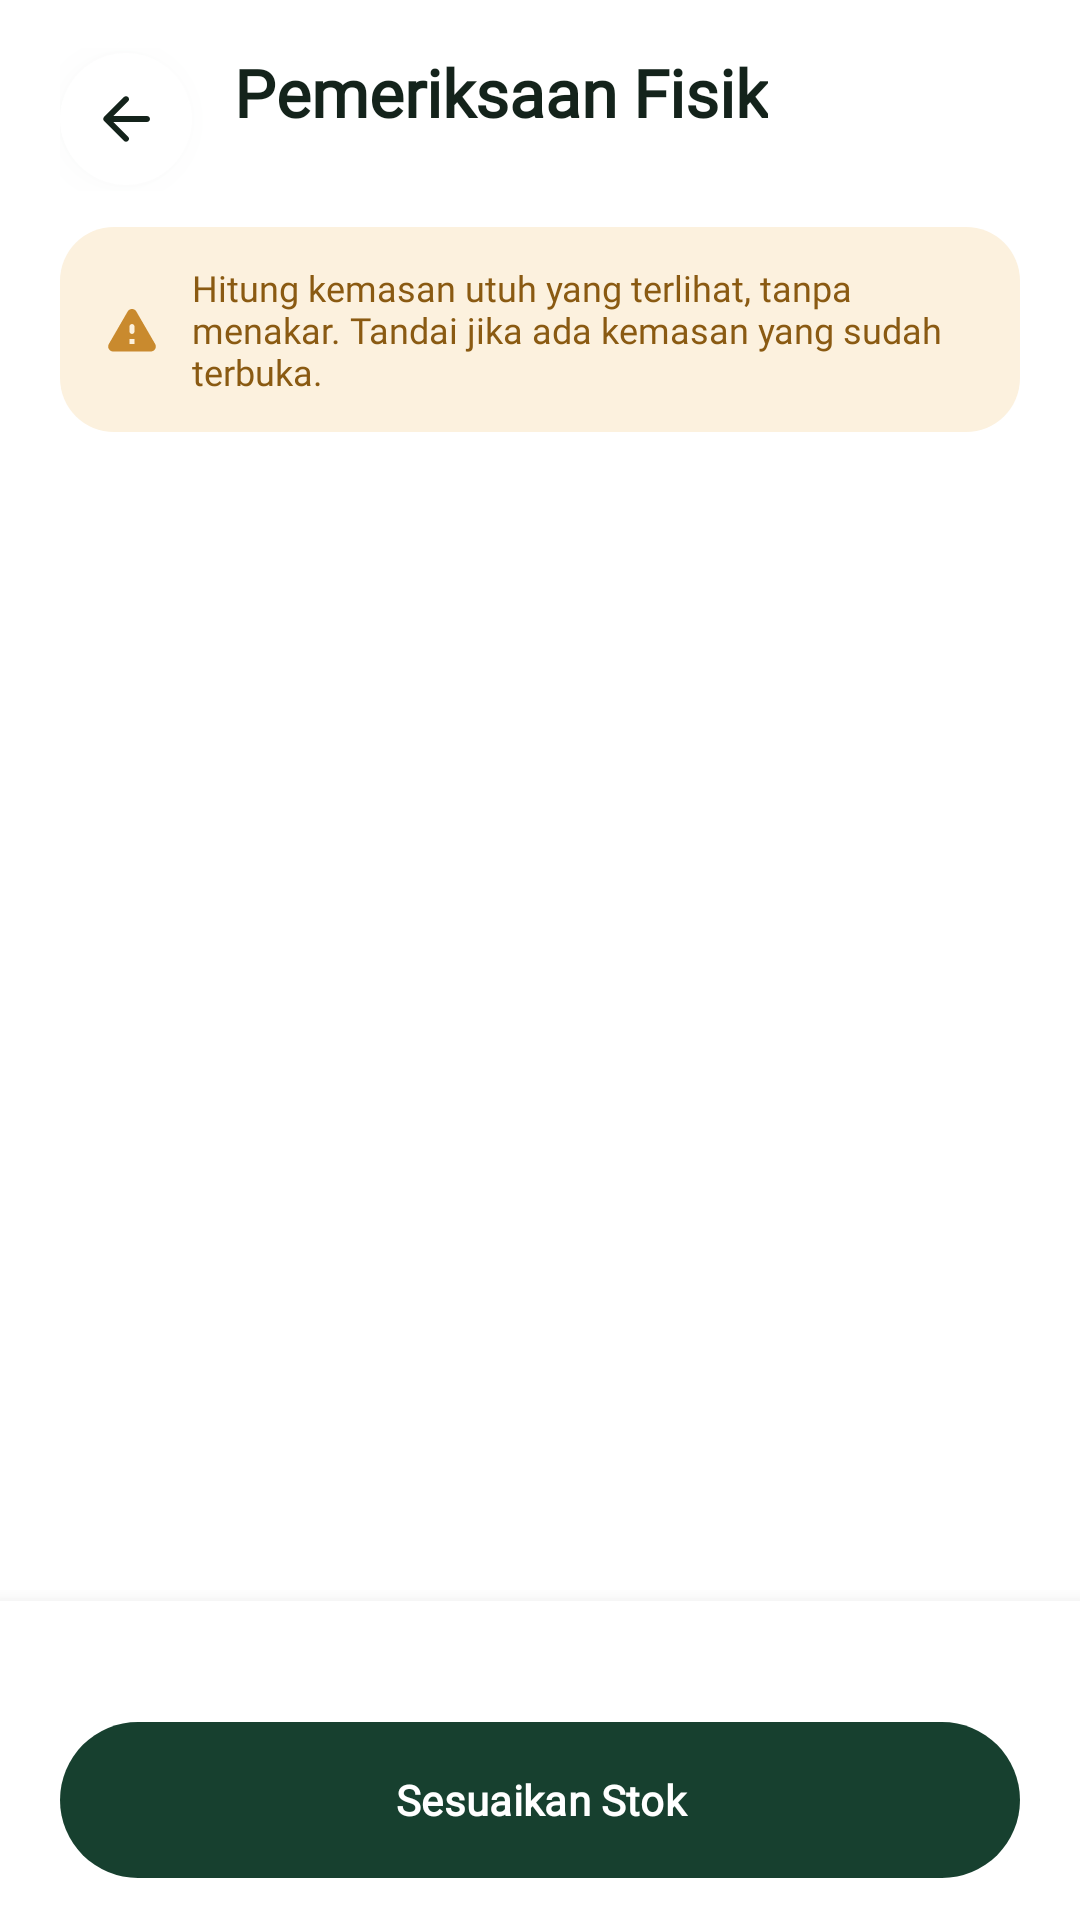

Icons on this 1080px x 1920px Android screen, each with its box as (x1, y1, x2, y2):
warning: (108, 309, 156, 352)
